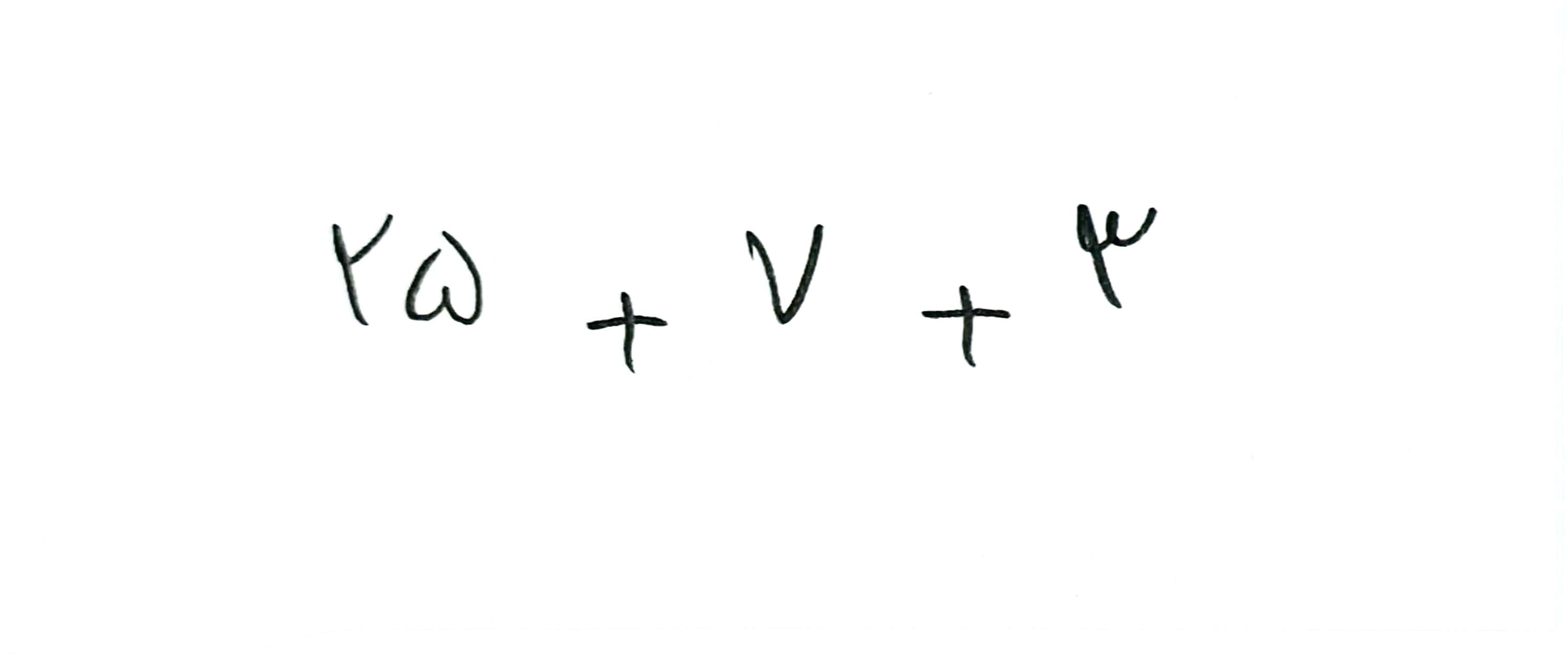character: (1076, 204, 1159, 310), (743, 224, 822, 326), (403, 228, 482, 325), (328, 209, 392, 328), (922, 286, 1011, 367), (586, 293, 668, 373)
